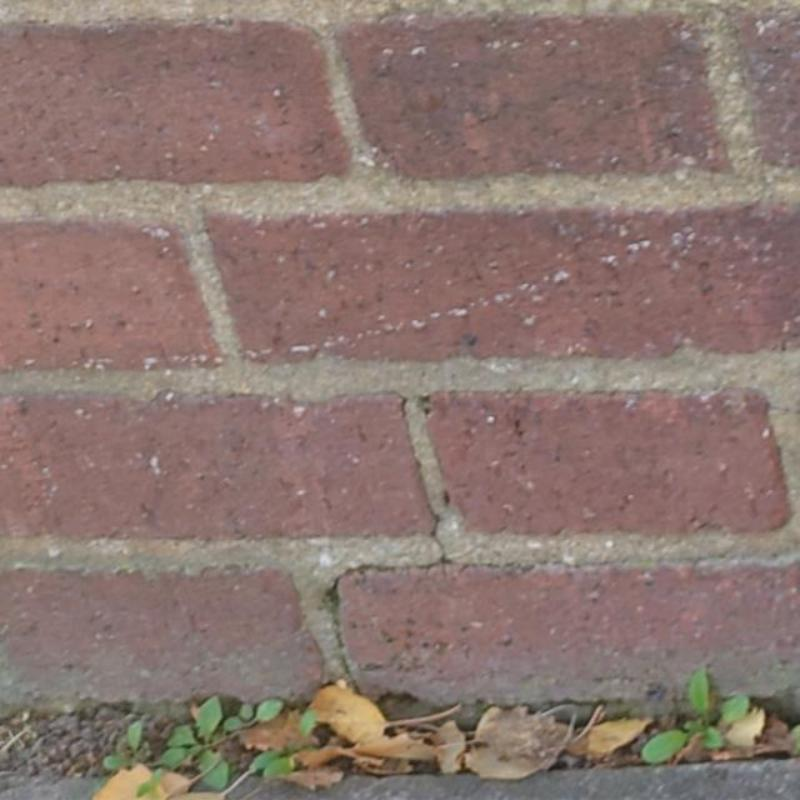crack: (323, 503, 460, 650)
